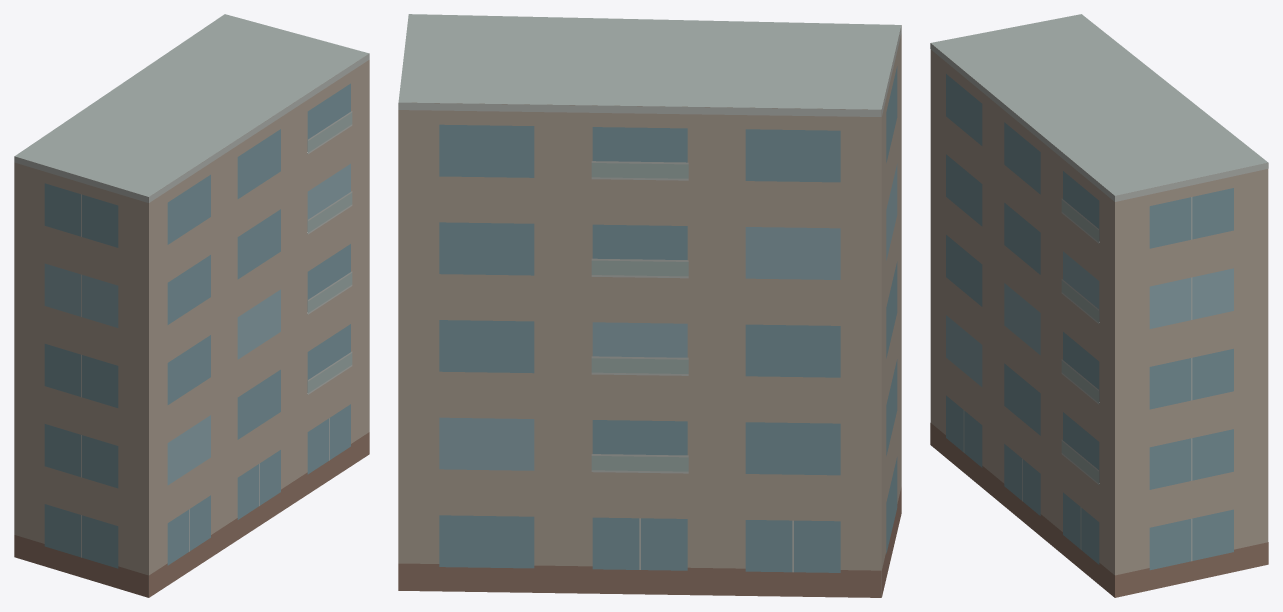
The model's file is survey-upis-32979352.glb.
3 views of the same model, side by side, from view 1: azimuth 30°, elevation 25°; view 2: azimuth 150°, elevation 25°; view 3: azimuth 270°, elevation 25° (orthographic). The views are drawn at different scales.
Parts seen in each view (by area): view 1: survey-upis-32979352.tmp; view 2: survey-upis-32979352.tmp; view 3: survey-upis-32979352.tmp.
Part boxes in pixels (<box>): survey-upis-32979352.tmp: <box>14,14,369,597</box>; survey-upis-32979352.tmp: <box>398,14,901,597</box>; survey-upis-32979352.tmp: <box>930,14,1268,597</box>.
Size of the model in its own units: 15.44 by 15.9 by 12.13.
